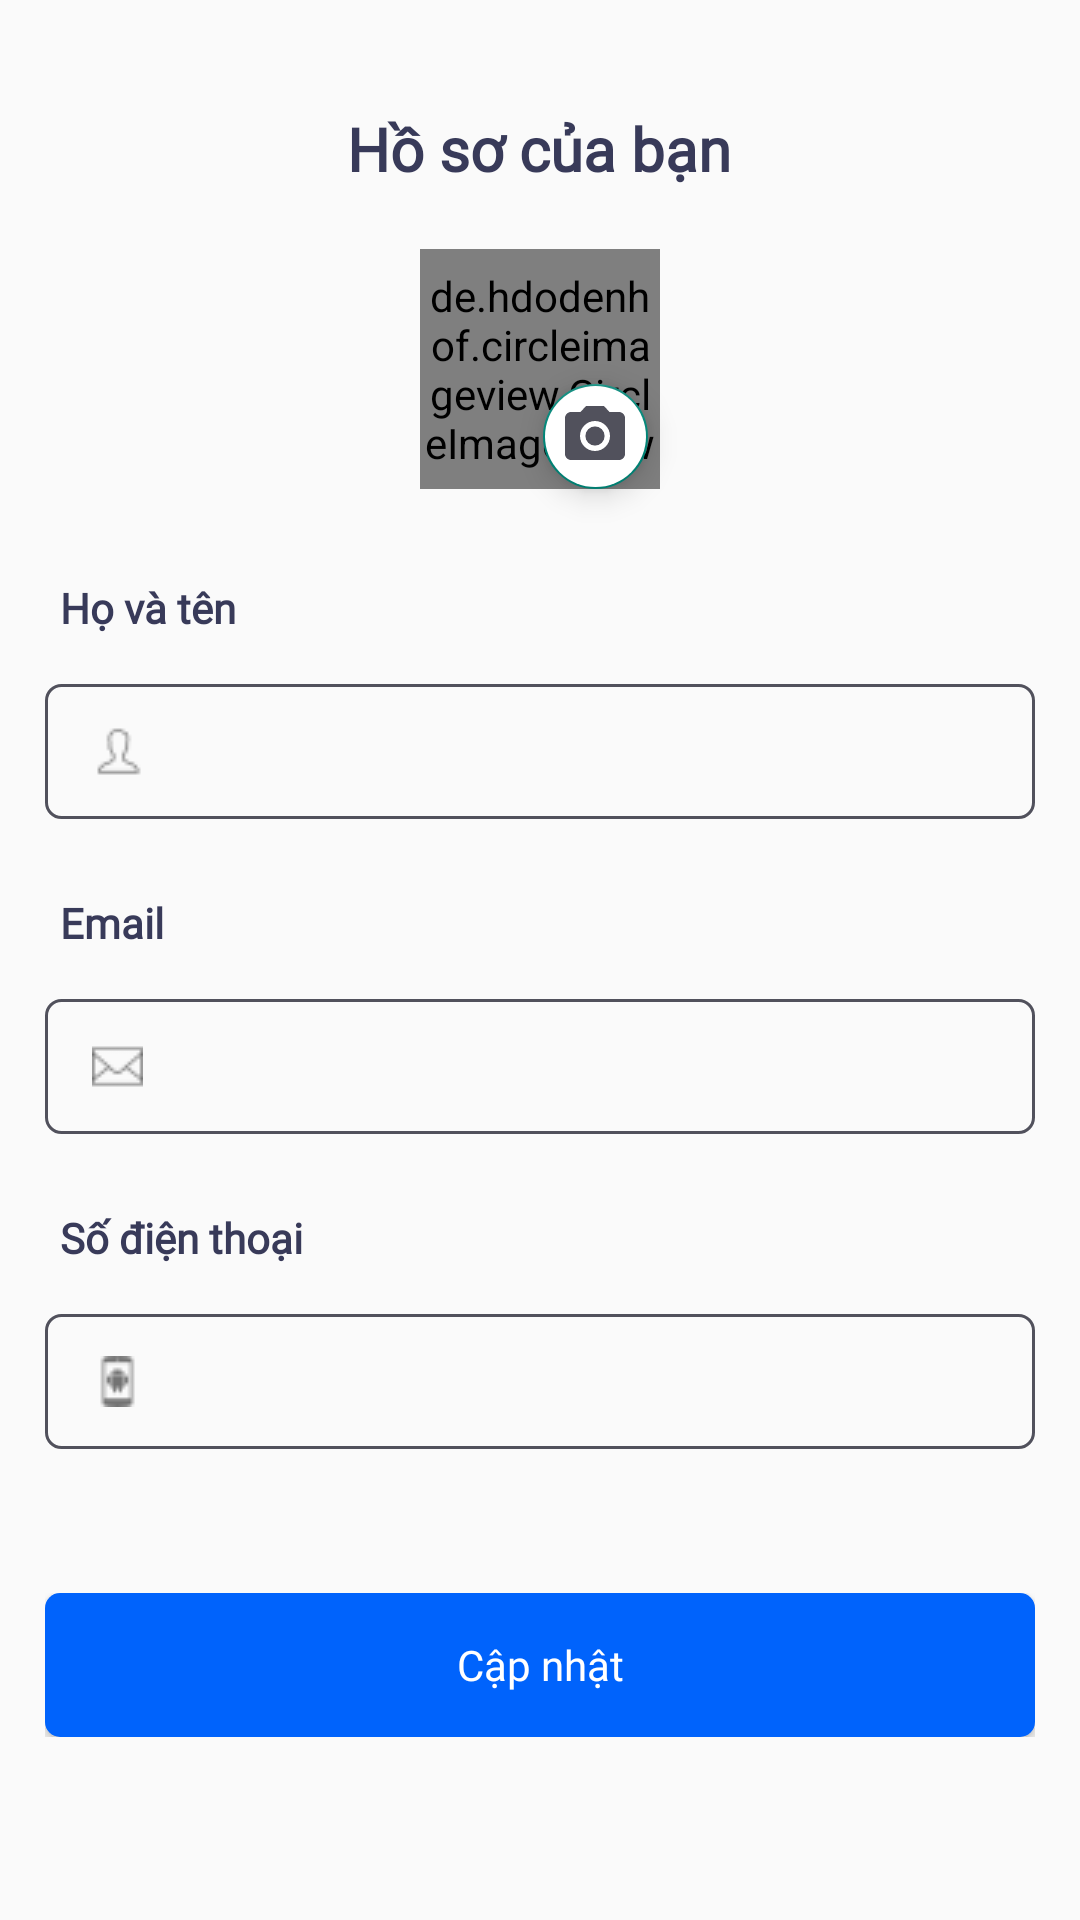

Icons on this 1080w x 1920h Android screen, each with its box as box=[x1, y1, x2, y2]:
camera: box=[543, 384, 648, 489]
